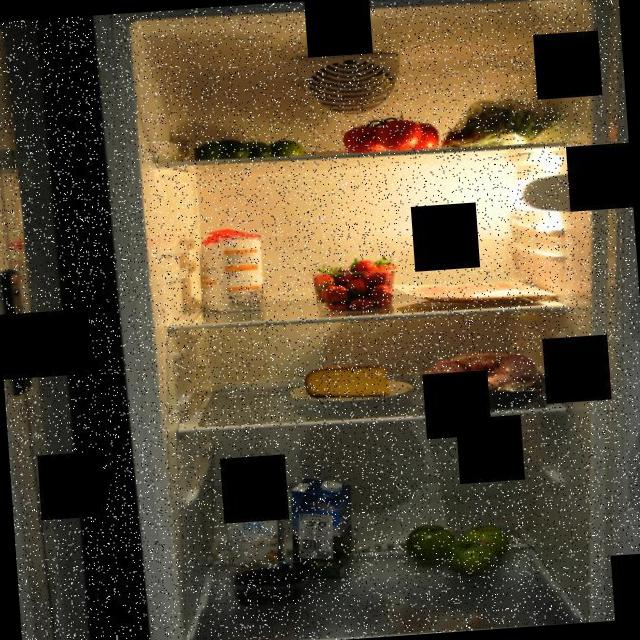Carne cerdo: (407, 274, 540, 310)
Carne pollo: (417, 344, 553, 414)
Leche: (286, 475, 362, 586), (218, 474, 292, 577)
Manzana: (403, 514, 520, 582)
Queso: (302, 359, 392, 403)
Tomate: (336, 105, 444, 156)
